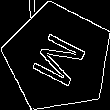M_SE: (24, 26, 91, 90)
